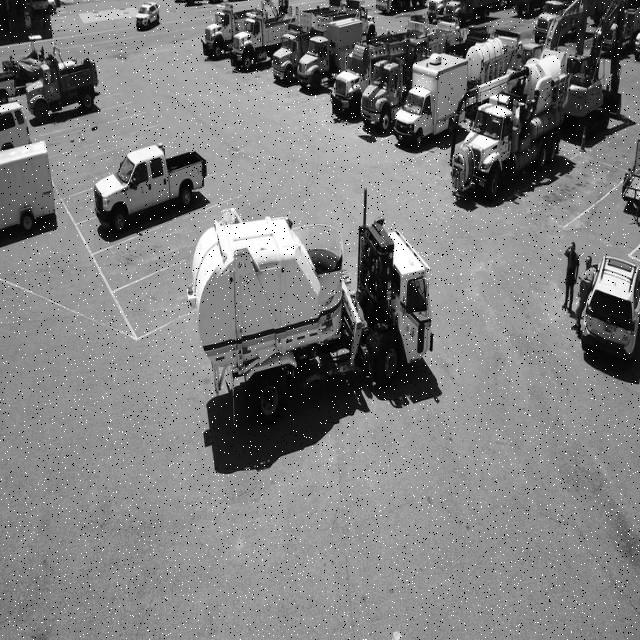Garbage Truck: (192, 188, 432, 429)
